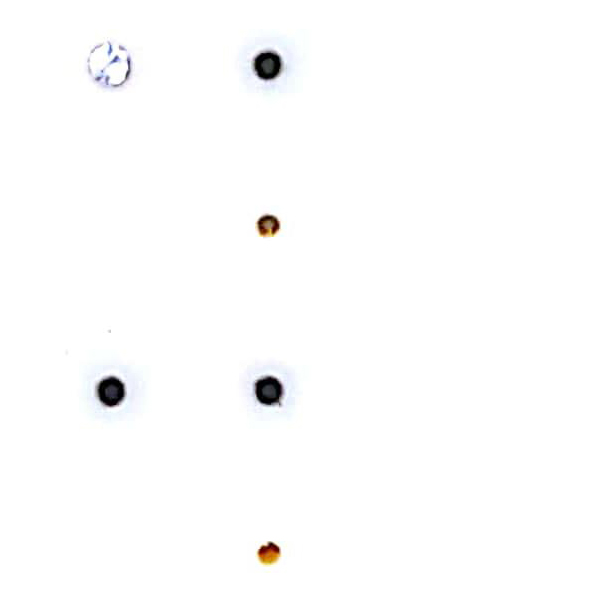abnormal: (76, 33, 162, 102)
cancer: (233, 31, 307, 107), (236, 359, 308, 423), (83, 363, 149, 425)
normal: (246, 201, 297, 250), (254, 531, 299, 578)
